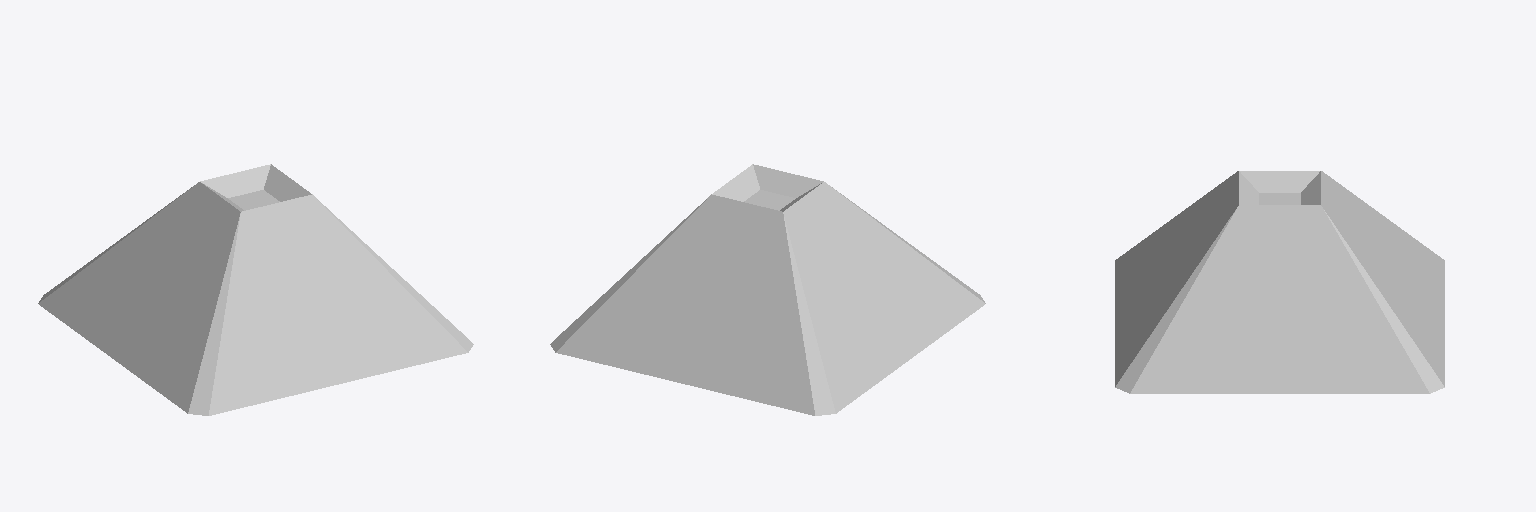
Rendered from roof-point.obj.
The picture shows the model from 3 angles: view 1: azimuth 30°, elevation 25°; view 2: azimuth 150°, elevation 25°; view 3: azimuth 270°, elevation 25°; orthographic projection.
Parts seen in each view (by area): view 1: roof-point; view 2: roof-point; view 3: roof-point.
Boxes of the visible parts, <box> form: roof-point: <box>38,164,473,415</box>; roof-point: <box>550,164,985,415</box>; roof-point: <box>1115,171,1444,393</box>.
Bounding box in the file's own units: 1.1 × 0.5 × 1.1.